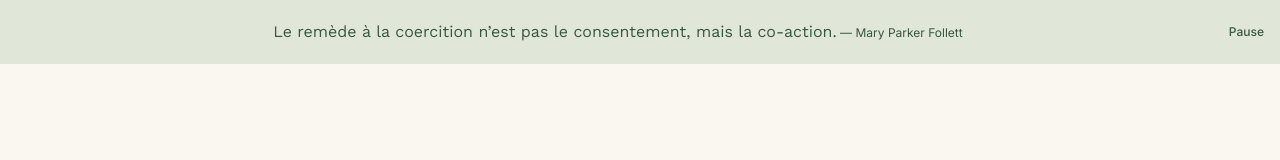
Test: homepage voices controls › retains compact explicit pause and remaining-time resume
Click the button with aria-label "Mettre en pause" at [1246, 32], box [1221, 10, 1272, 54]
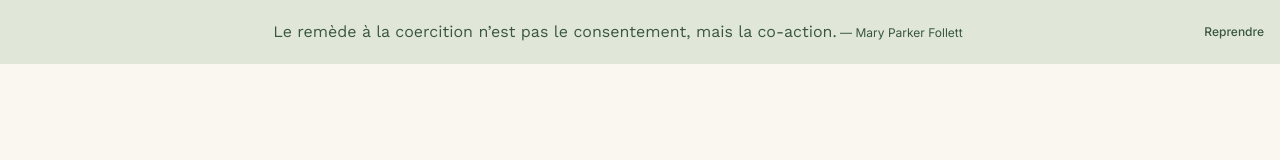
Expected: the element named "Voix de femmes" shows "Mary Parker Follett", [856, 25, 963, 40]
Click the button "Reprendre" at [1234, 32], box [1196, 10, 1272, 54]
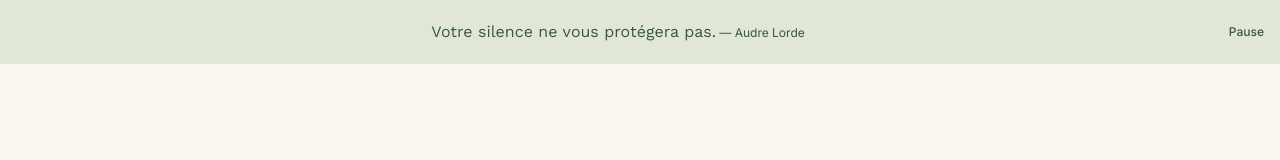
Expected: the element showing "Votre silence ne vous protégera pas. — Audre Lorde Pause" is shown, [0, 0, 1279, 64]
